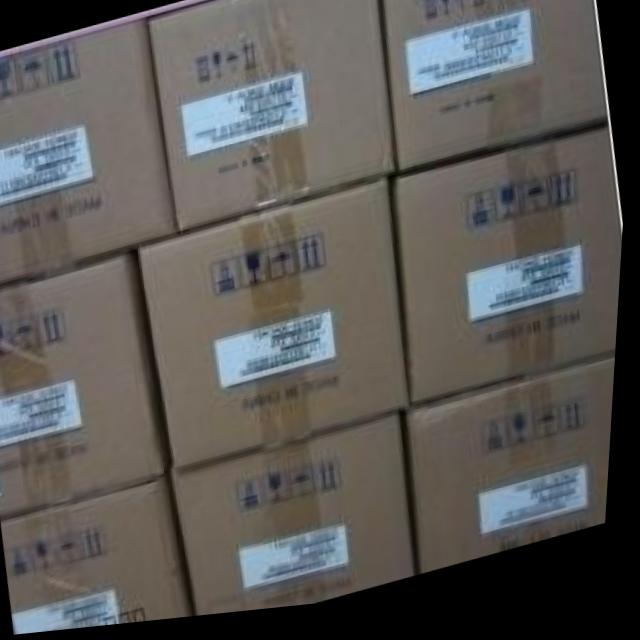box: (141, 190, 417, 476), (395, 139, 626, 416), (146, 0, 398, 235), (175, 418, 424, 621), (0, 26, 181, 285), (0, 253, 175, 516), (414, 369, 620, 581), (380, 0, 612, 186), (8, 479, 200, 636)
